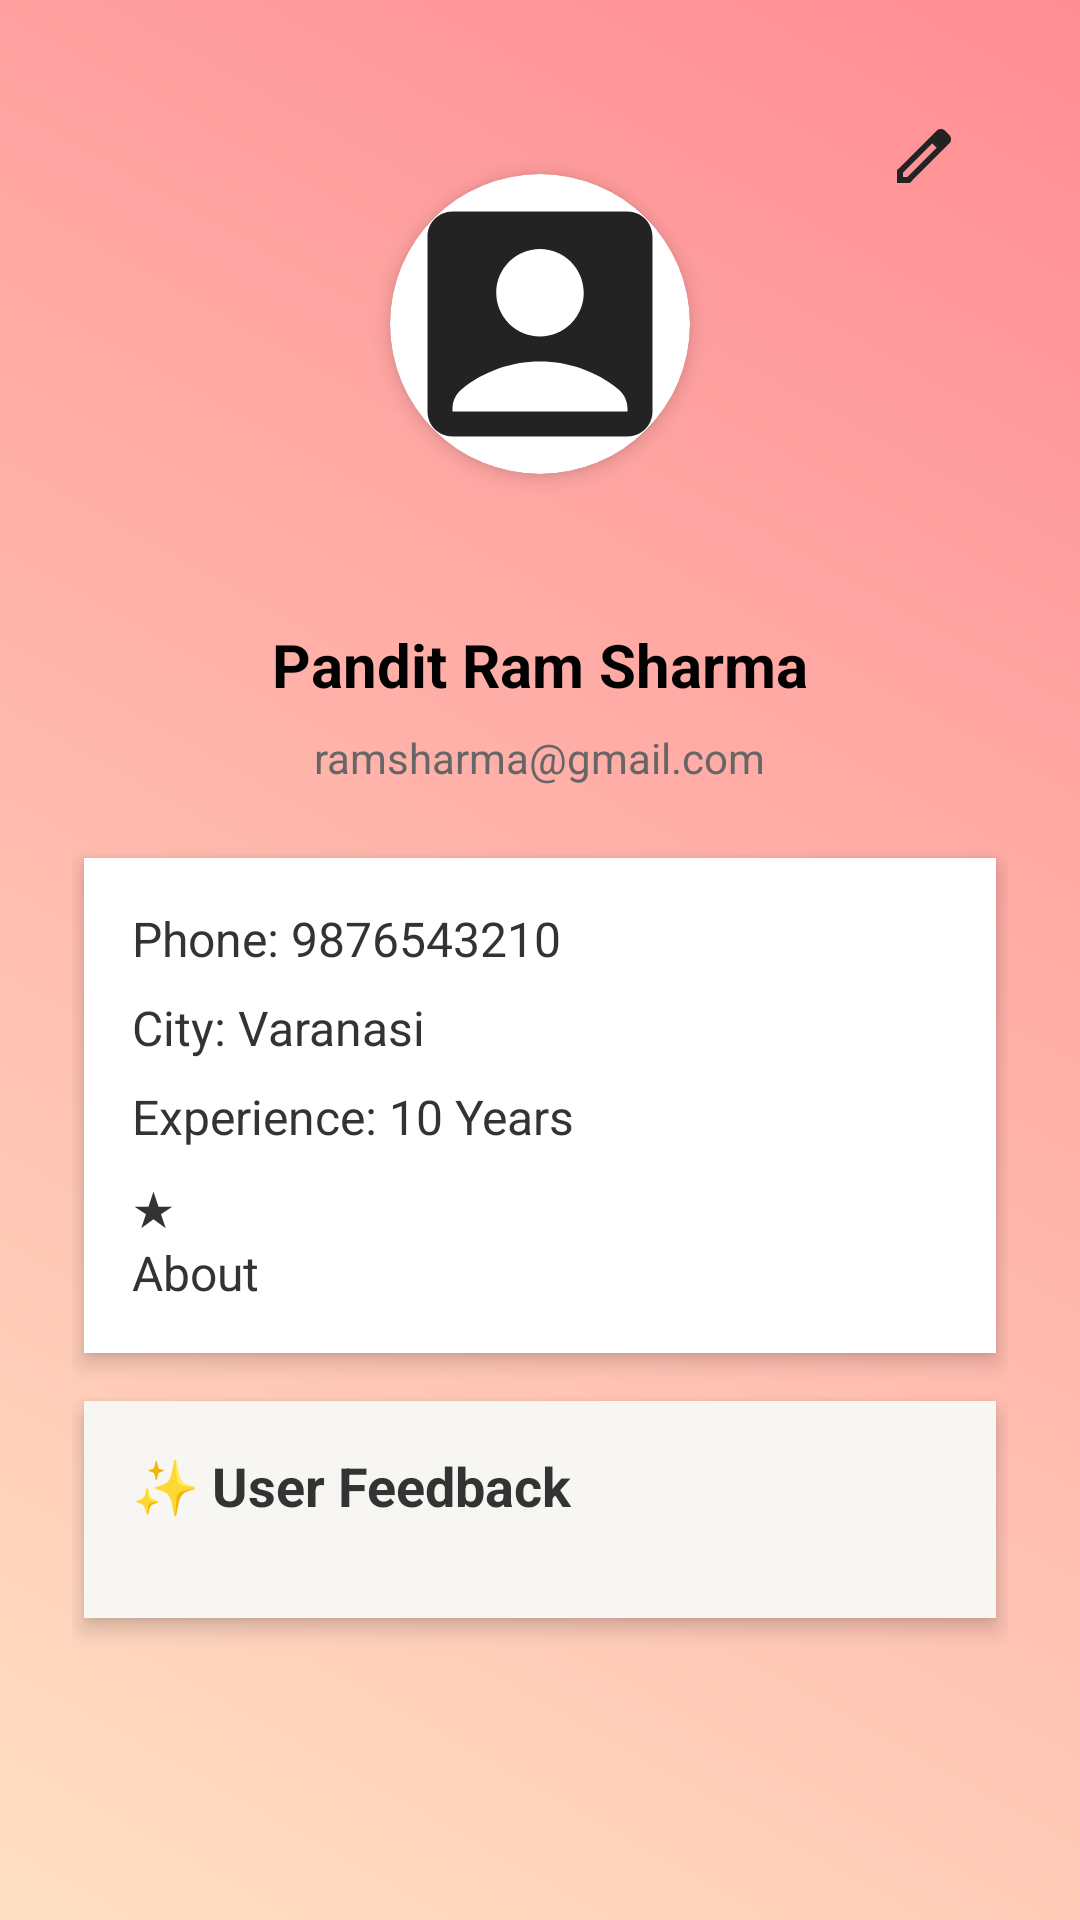

Point at icon controls on the screen. Image size 1080w x 1920h, points as (x,y).
edit: (924,156)
